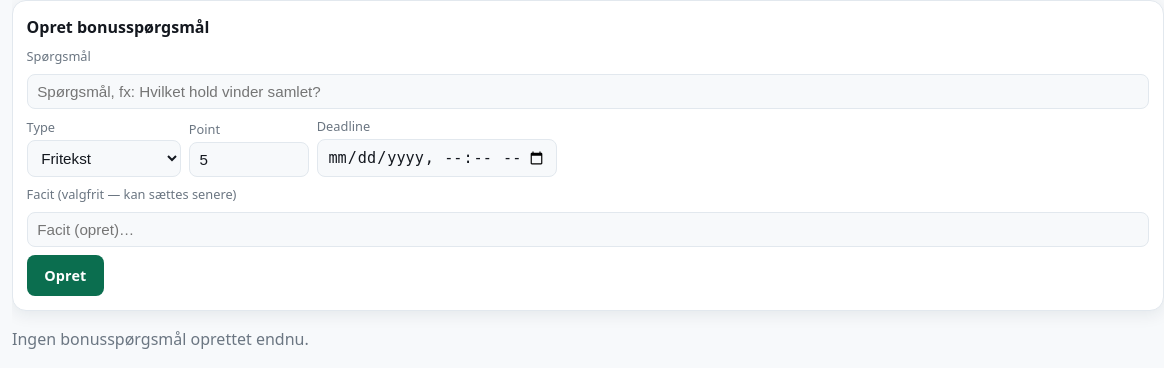
Scenario: BonusTab › skifter facit-input til Ja/Nej ved type boolean
Step 1. Select "Ja/nej" in the dropdown with test id "bonus-new-type" → (104, 159), box top-left (27, 140), bottom-right (181, 177)
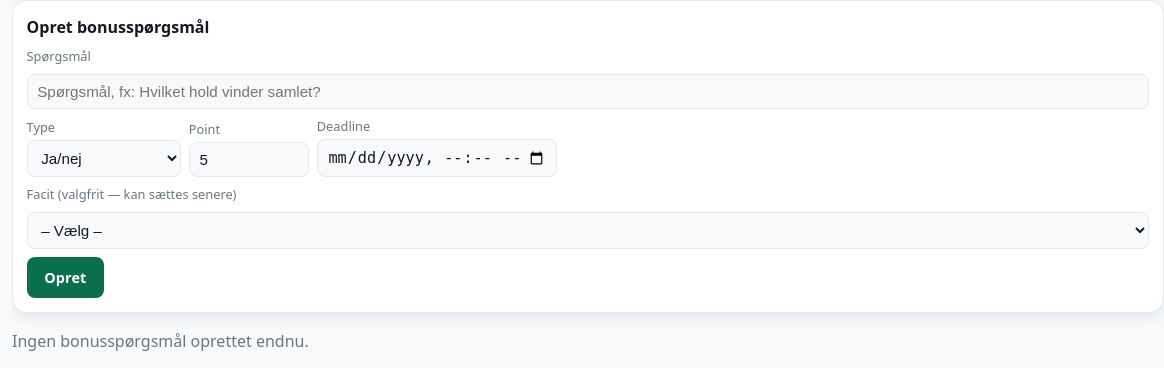
Result: the dropdown with test id "bonus-new-facit-boolean" is shown at top-left (27, 212), bottom-right (1149, 249)
